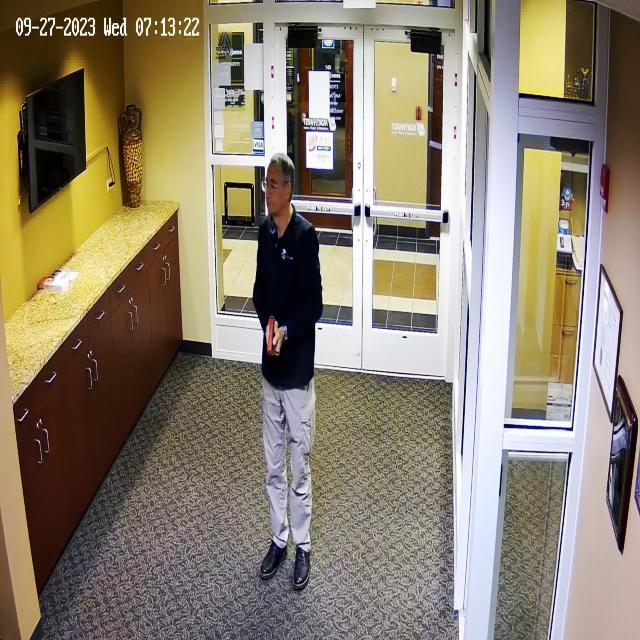Gun: (253, 311, 297, 360)
